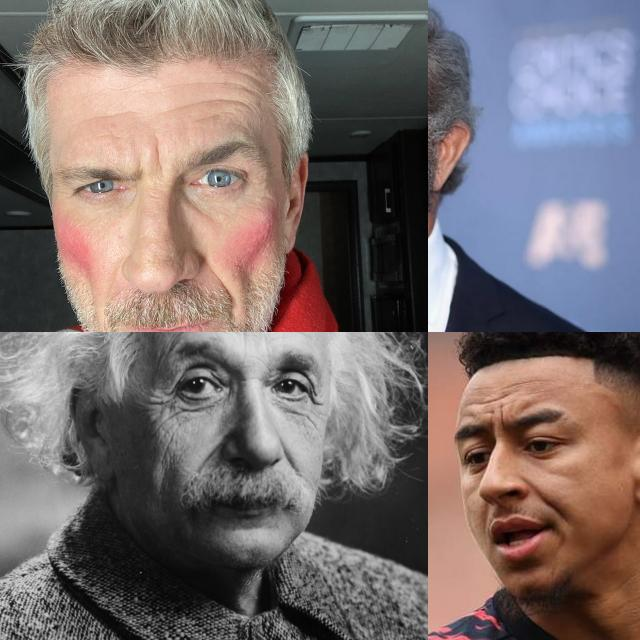crows_feet: (150, 389, 178, 419), (306, 388, 326, 418)
forehead: (184, 78, 260, 125), (82, 108, 142, 126), (481, 386, 509, 414), (235, 332, 259, 353), (172, 332, 224, 341), (514, 376, 550, 388), (270, 332, 307, 341)
frown_line: (146, 136, 166, 180), (490, 413, 506, 429)
gummy_smile: (201, 256, 235, 298), (524, 478, 558, 514), (198, 432, 224, 472), (280, 438, 300, 472)
